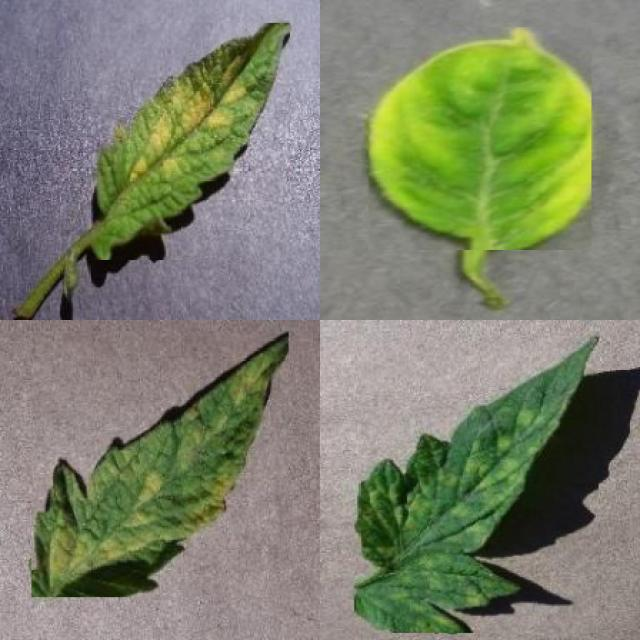Leaf Mold: (354, 338, 599, 633), (31, 332, 289, 598), (87, 23, 290, 260)
Yellow Leaf Curl Virus: (368, 27, 592, 250)
